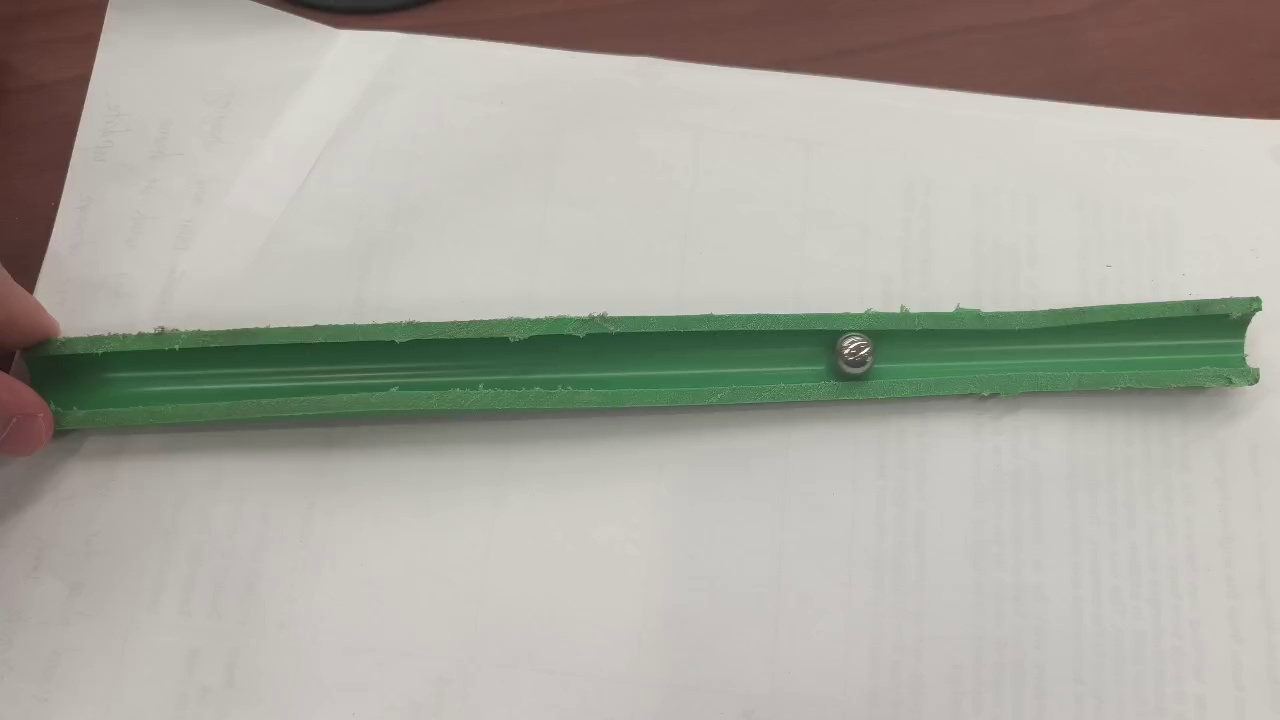ball: (838, 335, 873, 374)
